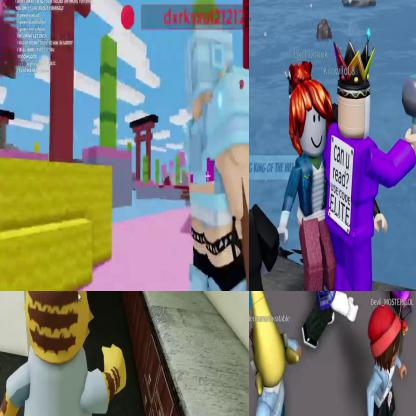Roblox-Avatar: (323, 27, 416, 291), (187, 19, 249, 291), (1, 292, 128, 416), (278, 61, 341, 291), (250, 292, 304, 416), (367, 305, 409, 416), (303, 292, 360, 351)
